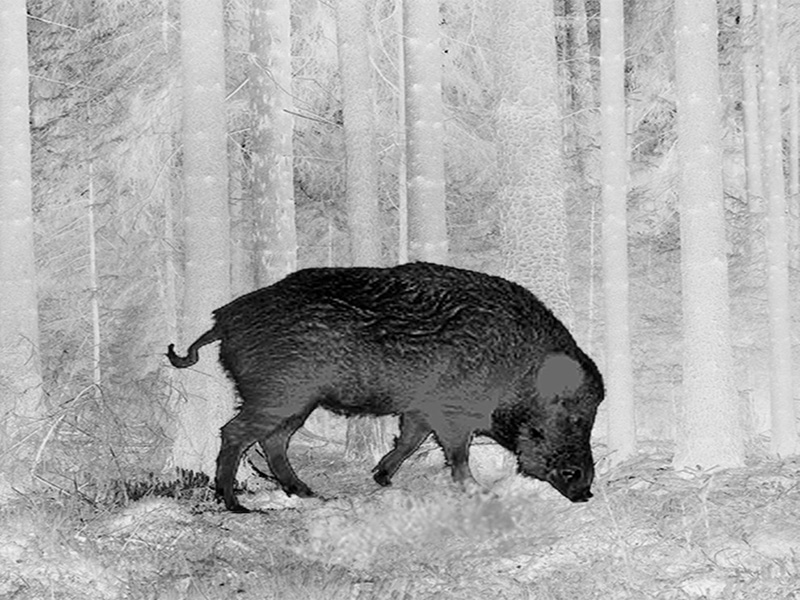cinghiale: (177, 259, 608, 517)
